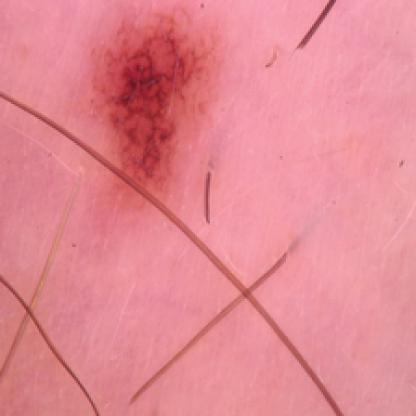benign: (87, 19, 197, 176)
